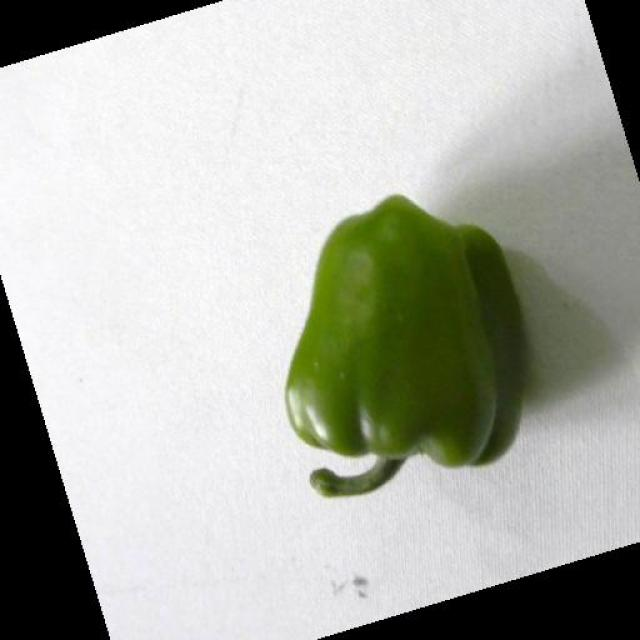Fresh_Capsicum: (279, 184, 537, 526)
